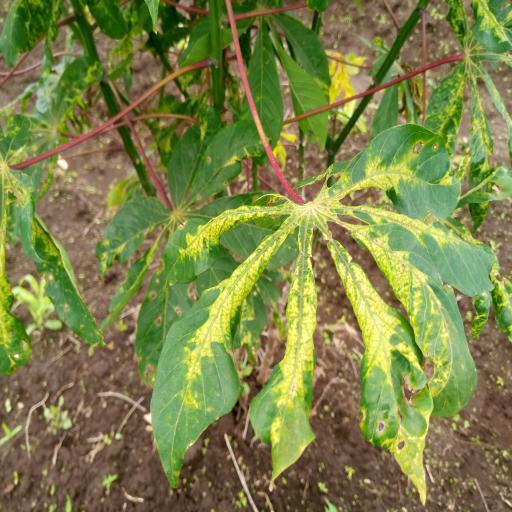Cassava_Mosaic: (152, 138, 491, 481)
